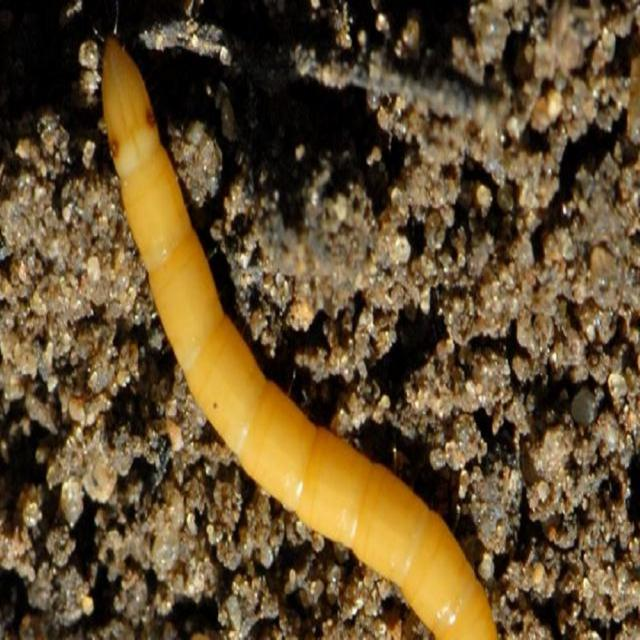wireworm: (91, 6, 505, 640)
